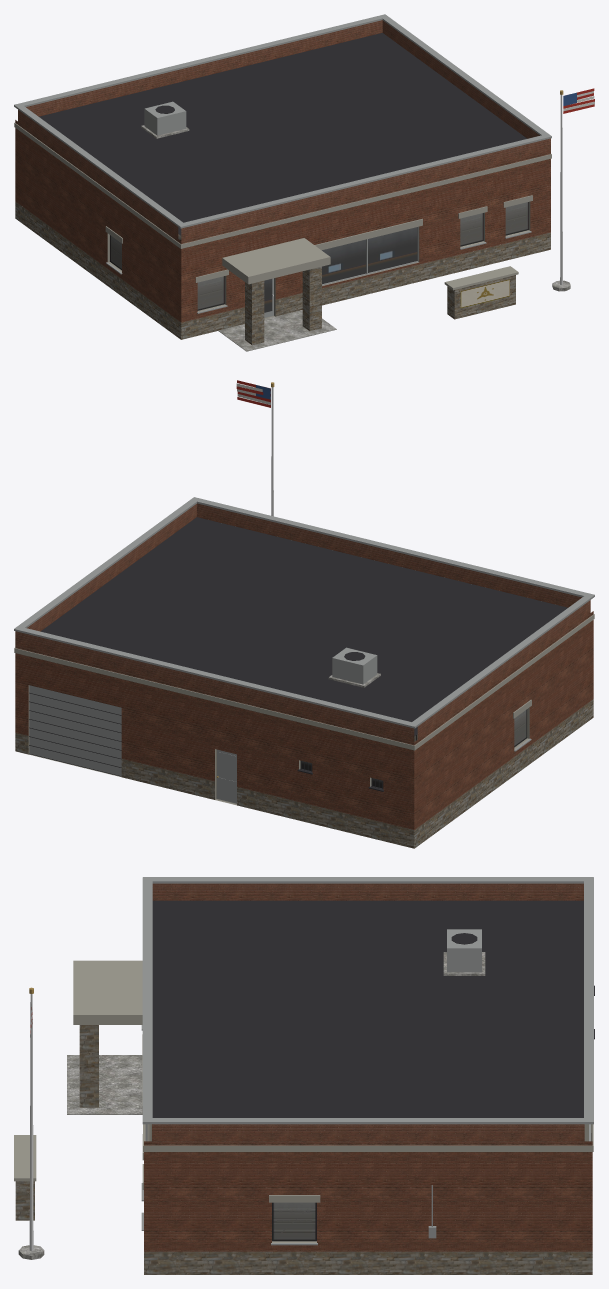
File: town_sheriff 2.gltf
The picture shows the model from 3 angles, top to bottom: view 1: azimuth 30°, elevation 25°; view 2: azimuth 150°, elevation 25°; view 3: azimuth 270°, elevation 25°; orthographic projection. The views are drawn at different scales.
Parts seen in each view (by area): view 1: TownSheriff_RoofDeck, TownSheriff_Walls, TownSheriff_Parapet, TownSheriff_Base, TownSheriff_Coping, TownSheriff_Window, TownSheriff_Trim, TownSheriff_PorticoRoof, TownSheriff_Portico, TownSheriff_Monument, TownSheriff_Walk, TownSheriff_Lintels (+5 smaller); view 2: TownSheriff_RoofDeck, TownSheriff_Walls, TownSheriff_Parapet, TownSheriff_Base, TownSheriff_Coping, TownSheriff_BayDoor, TownSheriff_Trim, TownSheriff_HVAC, TownSheriff_Door_2_Leaf, TownSheriff_Flag; view 3: TownSheriff_RoofDeck, TownSheriff_Walls, TownSheriff_Parapet, TownSheriff_Coping, TownSheriff_Base, TownSheriff_PorticoRoof, TownSheriff_Walk, TownSheriff_Trim, TownSheriff_Window, TownSheriff_Portico, TownSheriff_HVAC, TownSheriff_Monument (+2 smaller).
Boxes of the visible parts, left/top/right/bottom form: TownSheriff_RoofDeck: left=39, top=33, right=527, bottom=235; TownSheriff_Walls: left=15, top=120, right=550, bottom=322; TownSheriff_Parapet: left=18, top=20, right=550, bottom=243; TownSheriff_Base: left=15, top=201, right=550, bottom=339; TownSheriff_Coping: left=14, top=14, right=551, bottom=228; TownSheriff_Window: left=110, top=202, right=528, bottom=310; TownSheriff_Trim: left=14, top=122, right=551, bottom=313; TownSheriff_PorticoRoof: left=222, top=238, right=330, bottom=284; TownSheriff_Portico: left=245, top=266, right=321, bottom=345; TownSheriff_Monument: left=444, top=266, right=518, bottom=319; TownSheriff_Walk: left=218, top=310, right=336, bottom=351; TownSheriff_Lintels: left=105, top=195, right=532, bottom=282; TownSheriff_RoofDeck: left=41, top=517, right=567, bottom=736; TownSheriff_Walls: left=15, top=611, right=593, bottom=829; TownSheriff_Parapet: left=15, top=503, right=590, bottom=744; TownSheriff_Base: left=15, top=699, right=593, bottom=848; TownSheriff_Coping: left=14, top=497, right=594, bottom=728; TownSheriff_BayDoor: left=29, top=685, right=121, bottom=776; TownSheriff_Trim: left=14, top=614, right=594, bottom=791; TownSheriff_HVAC: left=328, top=647, right=380, bottom=687; TownSheriff_Door_2_Leaf: left=216, top=749, right=236, bottom=803; TownSheriff_Flag: left=236, top=380, right=270, bottom=407; TownSheriff_RoofDeck: left=152, top=900, right=583, bottom=1117; TownSheriff_Walls: left=144, top=1141, right=592, bottom=1251; TownSheriff_Parapet: left=152, top=883, right=584, bottom=1145; TownSheriff_Coping: left=142, top=877, right=593, bottom=1124; TownSheriff_Base: left=144, top=1251, right=592, bottom=1274; TownSheriff_PorticoRoof: left=73, top=960, right=142, bottom=1024; TownSheriff_Walk: left=67, top=1055, right=142, bottom=1114; TownSheriff_Trim: left=141, top=985, right=594, bottom=1245; TownSheriff_Window: left=272, top=1202, right=316, bottom=1241; TownSheriff_Portico: left=79, top=1025, right=98, bottom=1107; TownSheriff_HVAC: left=443, top=929, right=485, bottom=975; TownSheriff_Monument: left=14, top=1135, right=36, bottom=1220.
Size of what is drawn, in the model's own units: 18.19 by 9.15 by 18.12.
2 materials, 2 textured.
